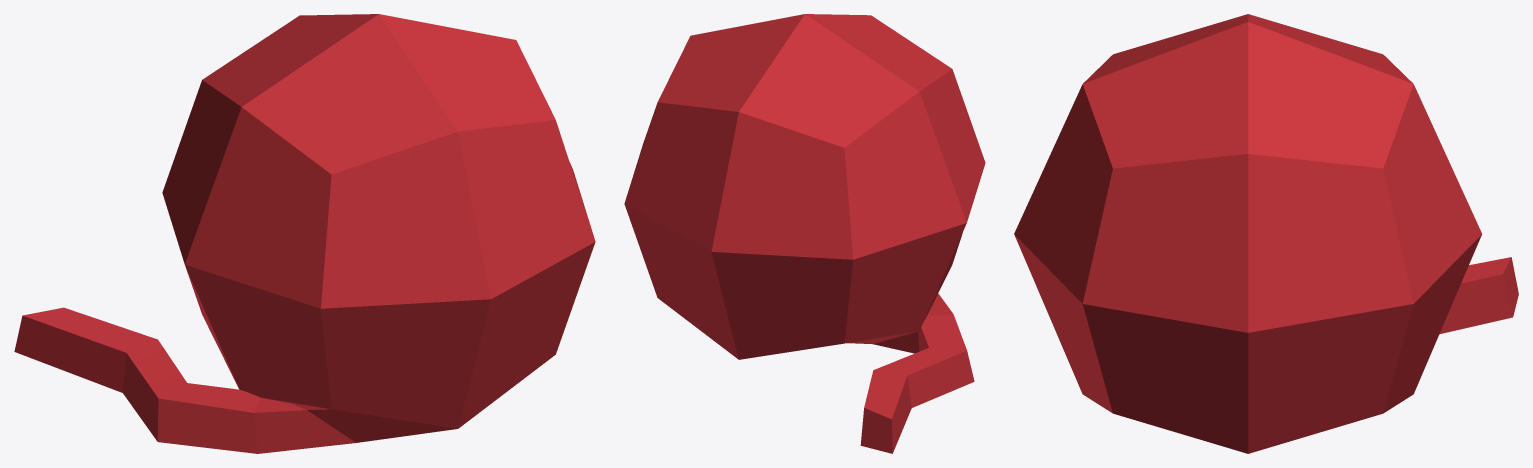
File: props_cat-ball.fbx
3 views of the same model, side by side, from view 1: azimuth 30°, elevation 25°; view 2: azimuth 150°, elevation 25°; view 3: azimuth 270°, elevation 25° (orthographic). The views are drawn at different scales.
Parts seen in each view (by area): view 1: props_cat_ball; view 2: props_cat_ball; view 3: props_cat_ball.
Part boxes in pixels (x1=…): props_cat_ball: x1=14, y1=14, x2=595, y2=453; props_cat_ball: x1=624, y1=14, x2=985, y2=453; props_cat_ball: x1=1014, y1=14, x2=1518, y2=453.
Bounding box in the file's own units: 200 × 175 × 195.
